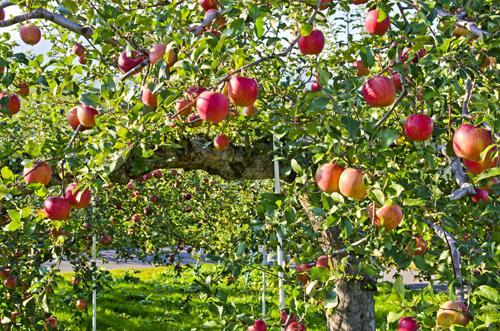apple: (453, 123, 490, 160), (337, 166, 371, 197), (362, 75, 396, 106), (225, 75, 259, 106), (197, 91, 231, 122), (44, 194, 72, 222), (316, 162, 344, 190)
